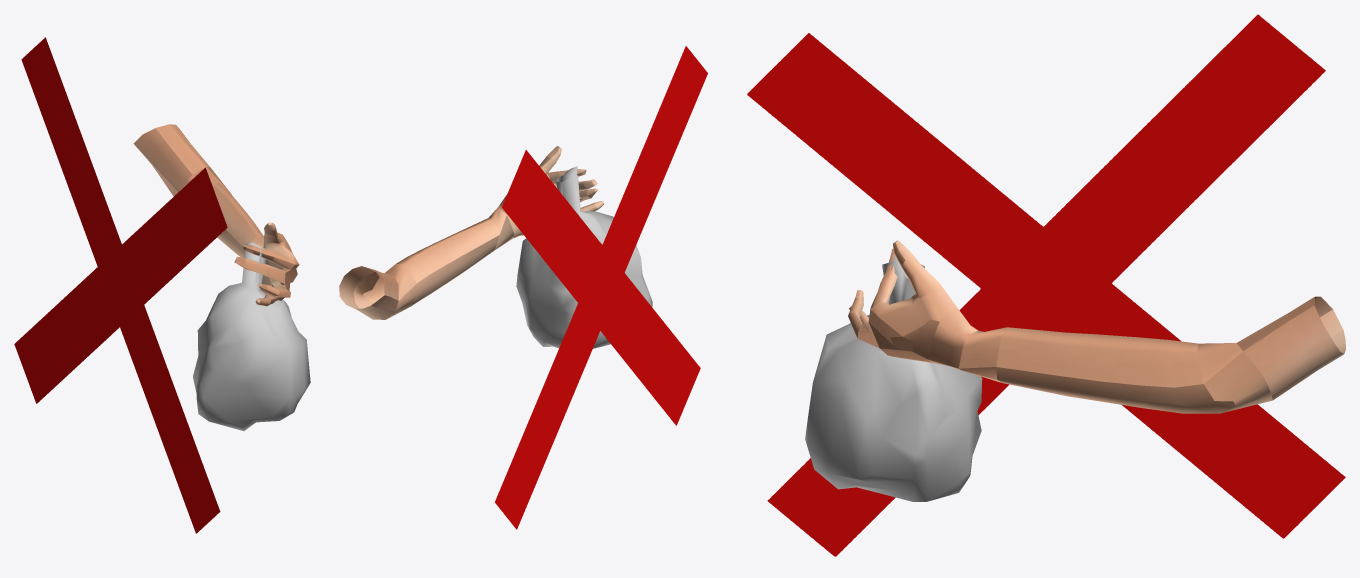
File: dust.fbx
The picture shows the model from 3 angles, left to right: view 1: azimuth 30°, elevation 25°; view 2: azimuth 150°, elevation 25°; view 3: azimuth 270°, elevation 25°; orthographic projection. The views are drawn at different scales.
Visible parts, largest first — view 1: into1, dust_bag1; view 2: into1, dust_bag1; view 3: into1, dust_bag1.
Boxes of the visible parts, x1,y1,x2,y2 form: into1: (14, 37, 227, 533); dust_bag1: (133, 124, 310, 430); into1: (495, 46, 707, 529); dust_bag1: (339, 146, 652, 348); into1: (747, 14, 1345, 556); dust_bag1: (805, 240, 1345, 501).
Bounding box in the file's own units: 0.2904 × 0.6343 × 0.6343.
